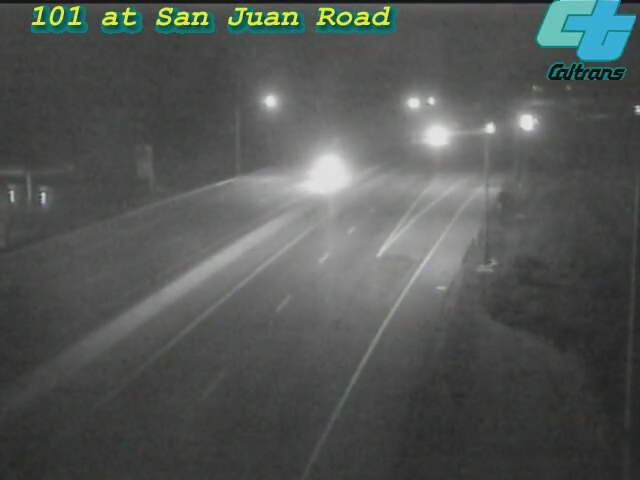vehicle: (288, 132, 368, 212), (409, 112, 459, 162), (462, 103, 512, 153), (498, 98, 548, 148)
